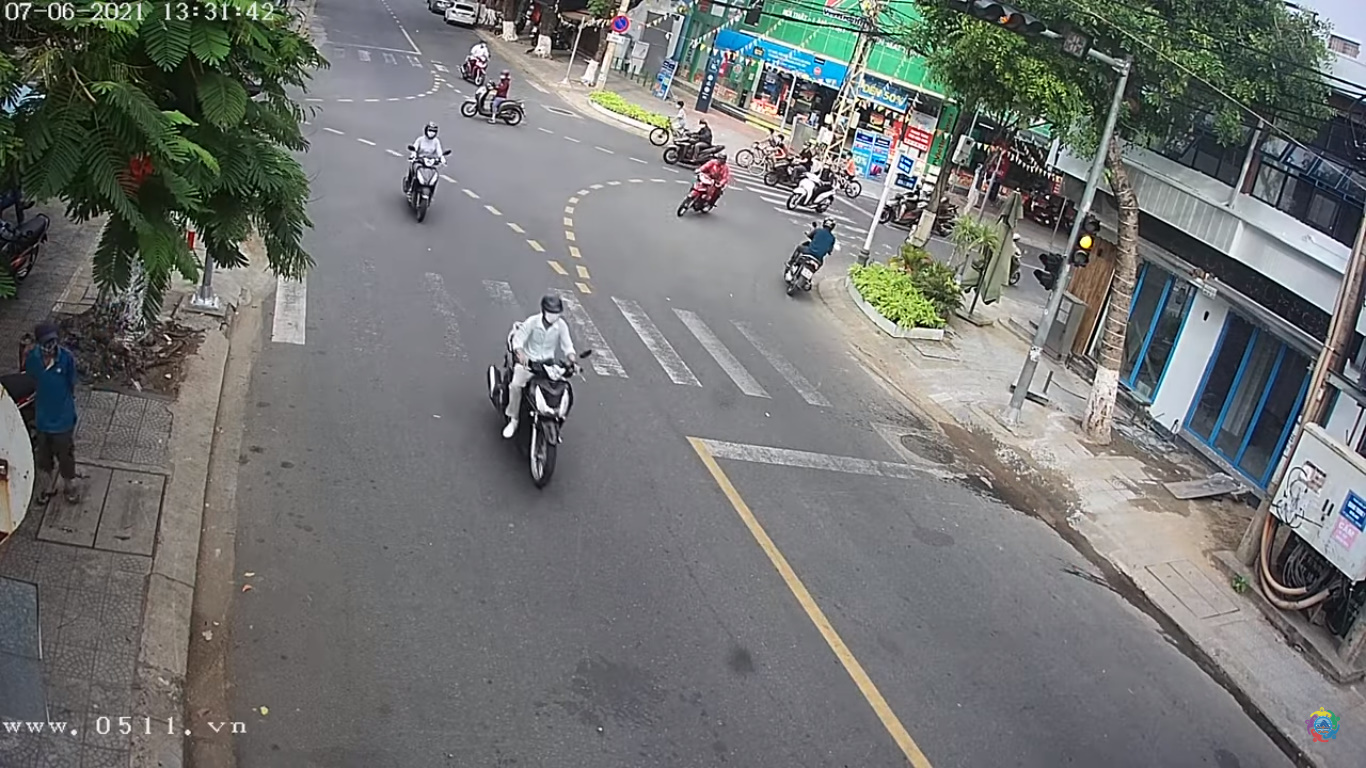motorbike: (487, 288, 592, 489), (399, 118, 452, 223)
